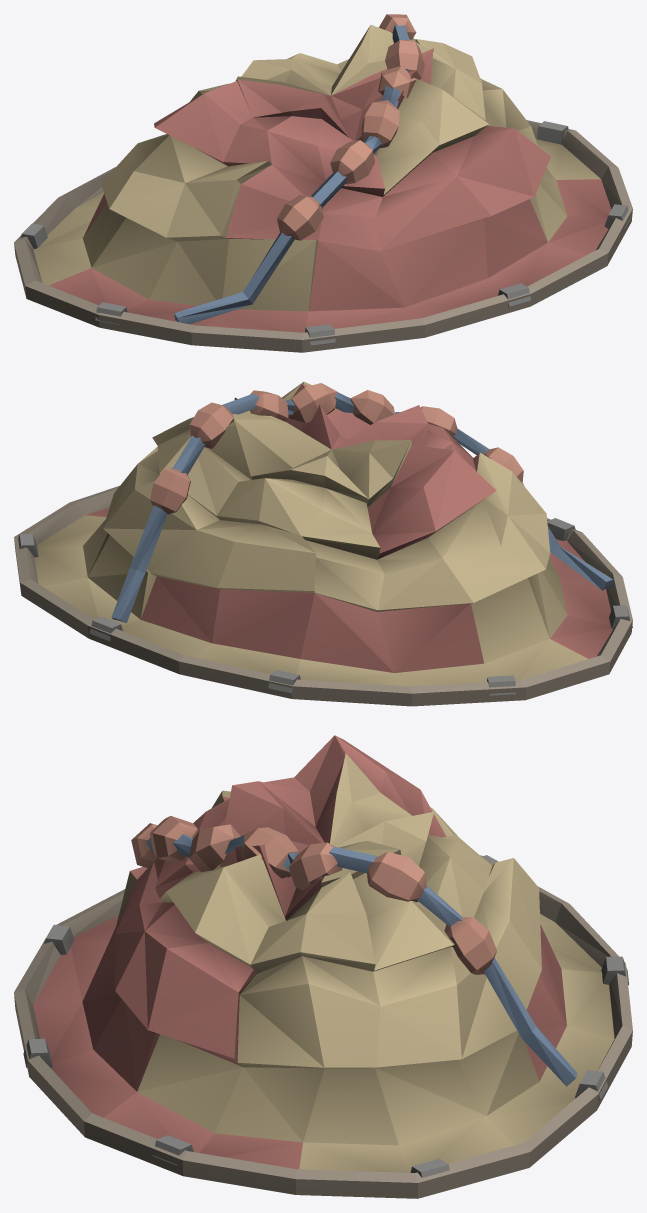
The model's file is nets.glb.
The picture shows the model from 3 angles, top to bottom: view 1: azimuth 30°, elevation 25°; view 2: azimuth 150°, elevation 25°; view 3: azimuth 270°, elevation 25°; orthographic projection. The views are drawn at different scales.
Visible parts, largest first — view 1: nets; view 2: nets; view 3: nets.
Part boxes in pixels (x1,y1,x2,y2): nets: [14, 14, 632, 352]; nets: [14, 381, 632, 706]; nets: [14, 735, 632, 1198].
Size of the model in its own units: 1.99 by 0.6076 by 1.49.
